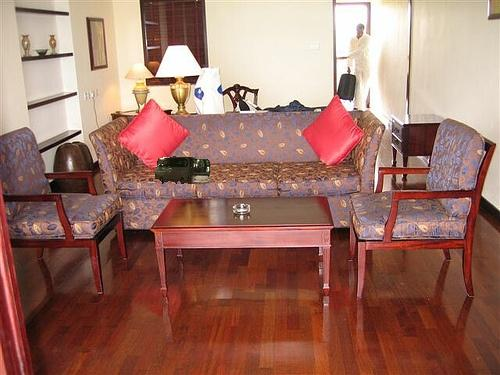tampered: (156, 157, 210, 184)
